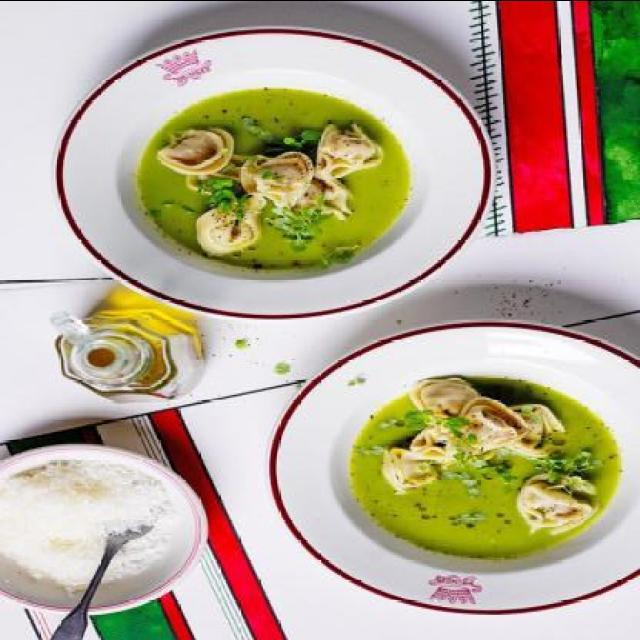Tortellini in broth: (348, 373, 586, 585), (135, 85, 397, 269)
